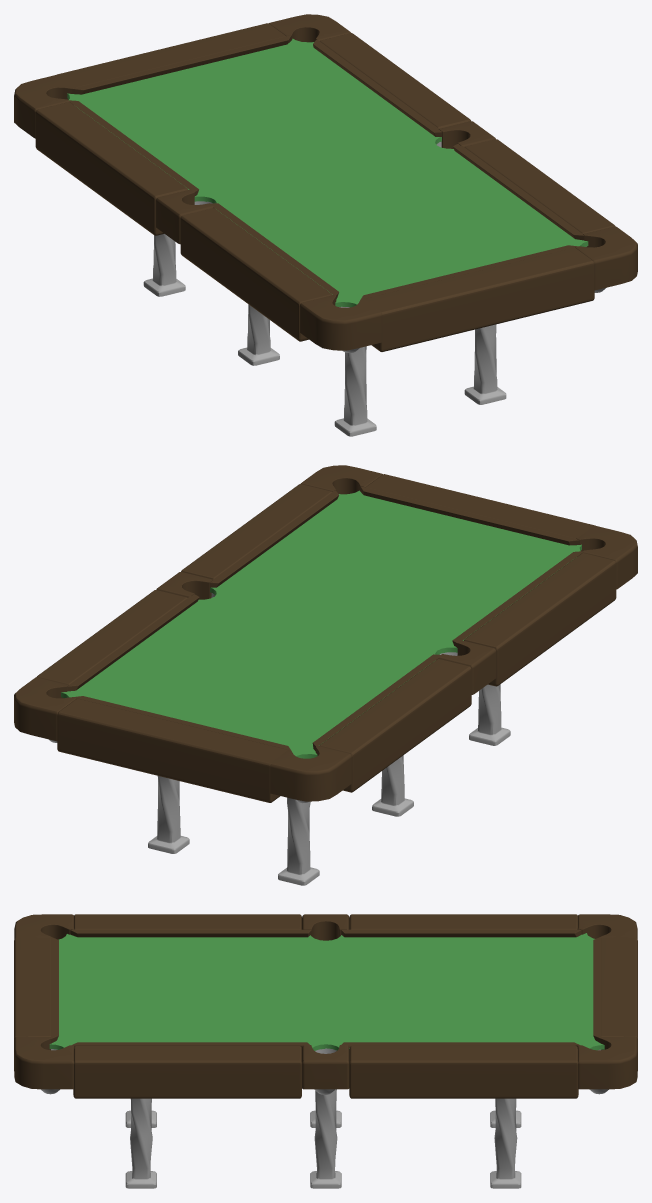
File: BillardTable_1.fbx
The picture shows the model from 3 angles, top to bottom: view 1: azimuth 30°, elevation 25°; view 2: azimuth 150°, elevation 25°; view 3: azimuth 270°, elevation 25°; orthographic projection. The views are drawn at different scales.
Visible parts, largest first — view 1: BillardTable_1; view 2: BillardTable_1; view 3: BillardTable_1.
Boxes of the visible parts, box(x1,y1,x2,y2) form: BillardTable_1: box(14, 14, 637, 436); BillardTable_1: box(14, 465, 637, 885); BillardTable_1: box(14, 914, 637, 1188).
Bounding box in the file's own units: 163 × 84.95 × 290.
